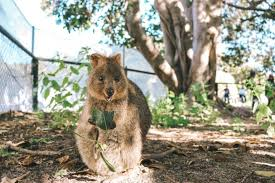quokka: (57, 43, 162, 175)
